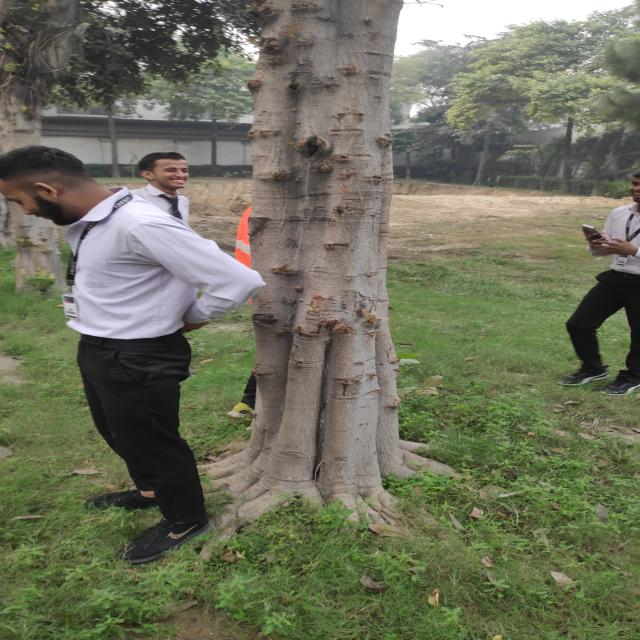unsafe: (0, 128, 233, 560), (565, 171, 640, 390)
